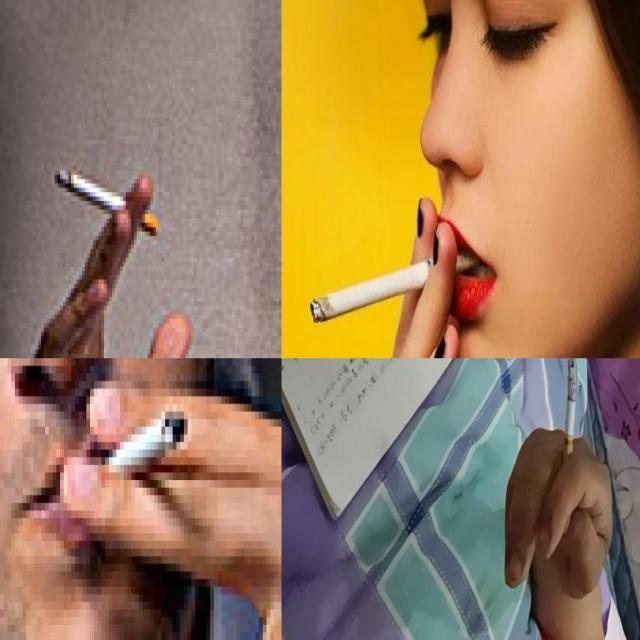smoking: (309, 249, 482, 324), (49, 157, 159, 236), (102, 404, 192, 457), (560, 358, 578, 491)
